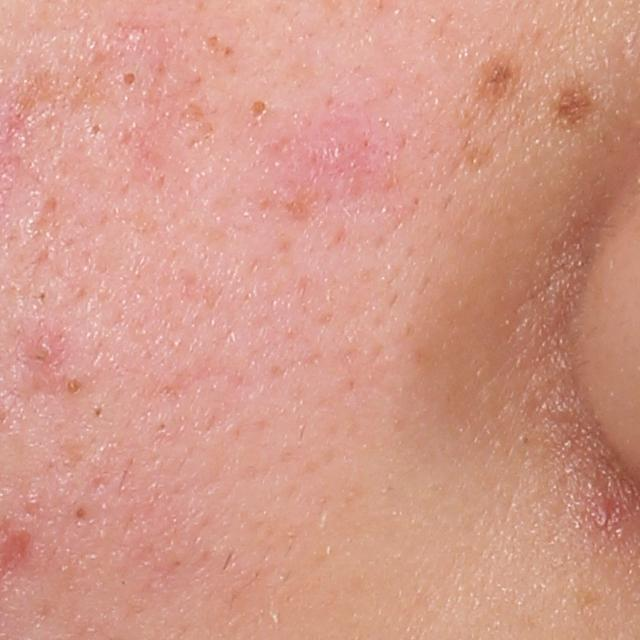atrophic_scar: (27, 192, 60, 234)
comedo: (245, 97, 272, 129), (83, 119, 105, 144), (63, 374, 87, 396), (70, 501, 92, 525), (119, 68, 140, 93)
nevus: (466, 52, 525, 109), (548, 84, 600, 129)
papule: (34, 331, 64, 364)
